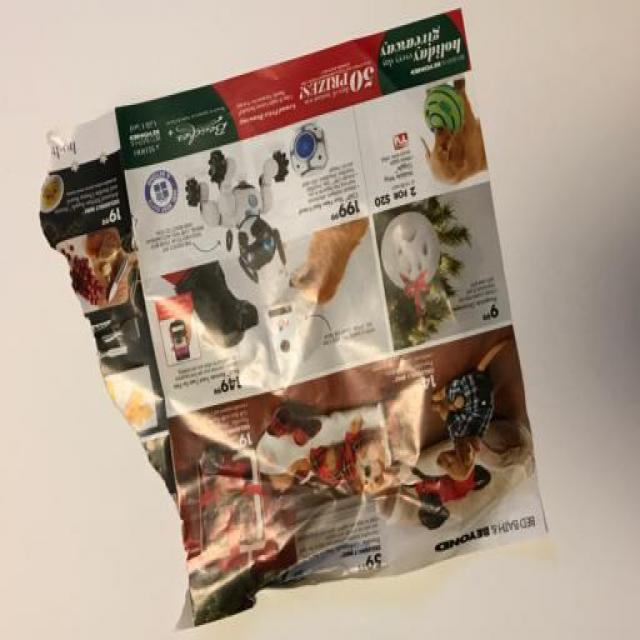paper: (38, 1, 581, 640)
